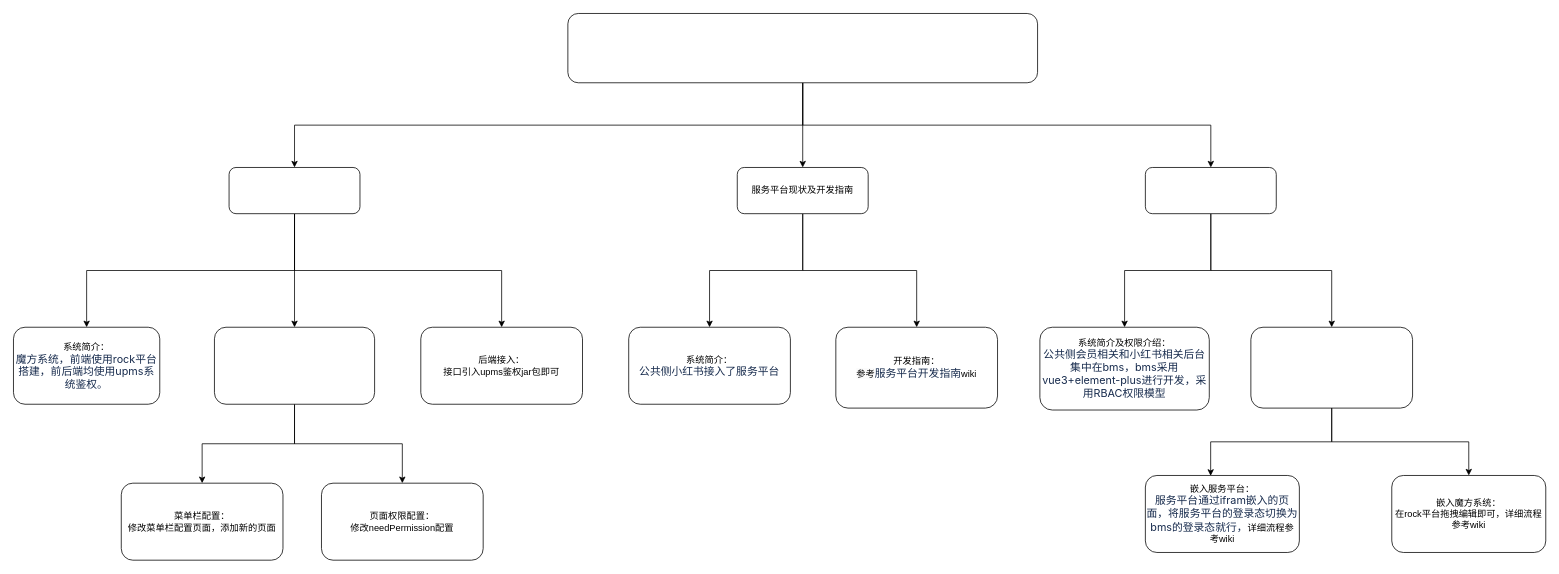
The diagram is 1559 pixels wide and 574 high, and some of its shapes have lost their labels. The shapes that lost their labels are listed below. From the top down, each one's box as (x1, y1, x2, y2) in pixels, then its label:
(567, 13, 1038, 83): 为在同一平台串联同一业务所有配置，建立统一后台，对现有后台现状及bms接入其他系统流程进行调研
(228, 167, 360, 214): 魔方营销系统现状及接入流程
(1145, 167, 1276, 214): Bms后台系统现状及接入流程
(214, 326, 375, 404): 前端页面接入： 在rock平台上进行页面配置
(1250, 326, 1413, 408): Bms嵌入其他系统流程
